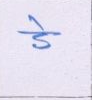e_matra: (28, 14, 47, 31)
